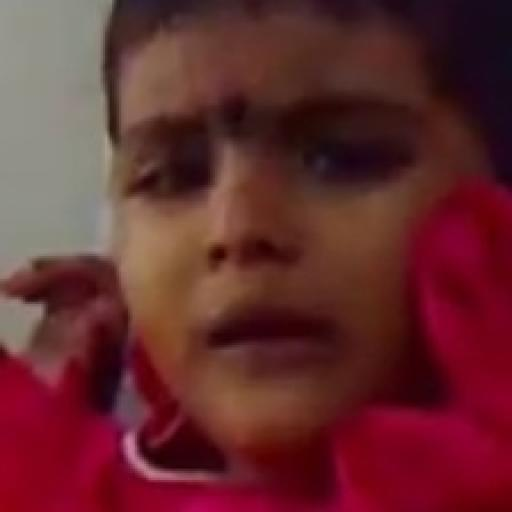Autism: (87, 6, 512, 442)
